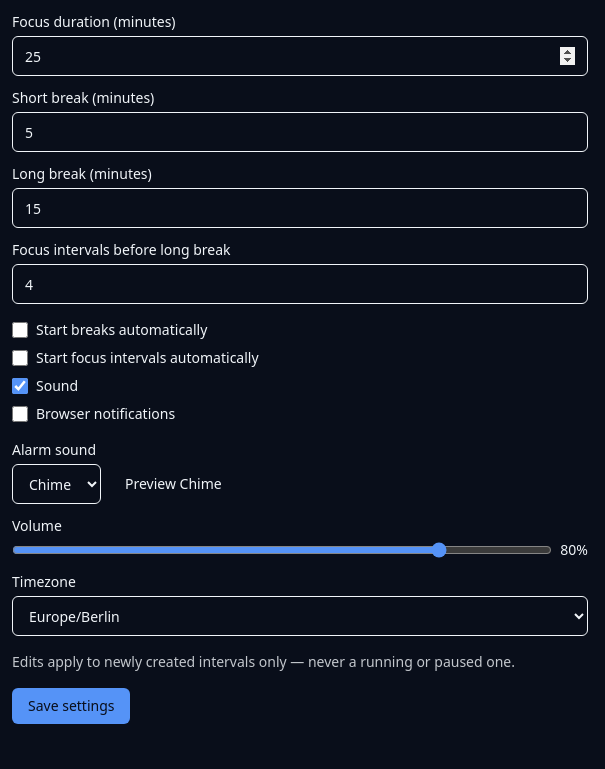
Test: <SettingsForm /> (spec §8.7) › associates toggle field errors with their checkboxes (WCAG 3.3.1)
Click the button "Save settings" at (71, 706), box [12, 688, 130, 724]
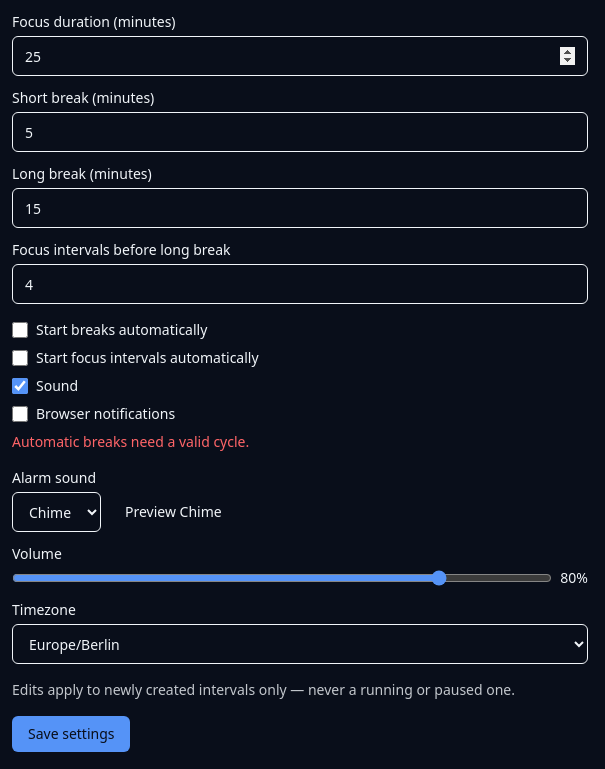
Now the message shows "Automatic breaks", box [12, 432, 249, 451]
